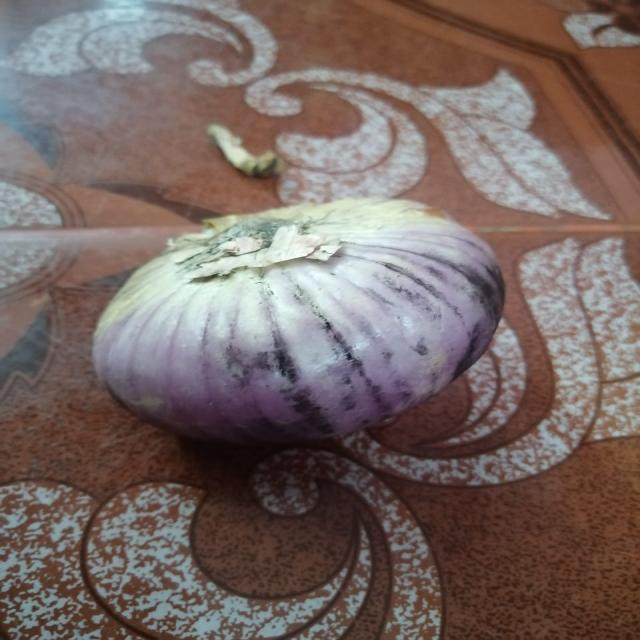rotten: (187, 342, 460, 423)
